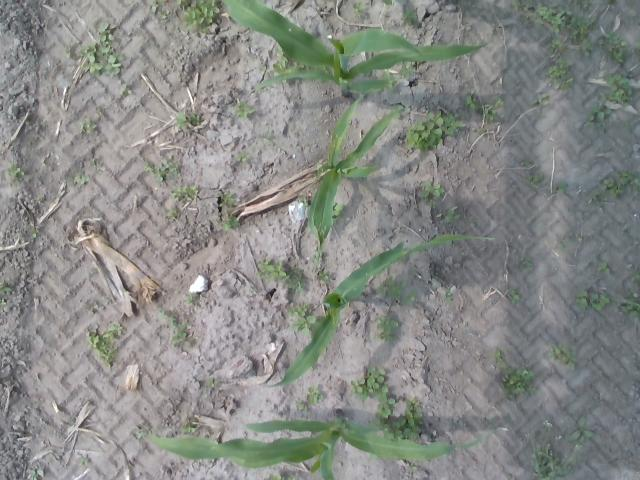Maize: (260, 232, 493, 392), (219, 0, 486, 98), (146, 410, 492, 480), (307, 93, 403, 267)
Weeds: (522, 420, 578, 478), (349, 366, 394, 432), (405, 110, 466, 151), (510, 0, 572, 34), (87, 322, 124, 370), (384, 398, 424, 442), (77, 40, 123, 77), (176, 0, 220, 35), (569, 16, 600, 58), (499, 366, 536, 401), (564, 414, 595, 452), (597, 31, 632, 64), (602, 72, 633, 107), (169, 311, 196, 348), (546, 58, 575, 91), (288, 303, 316, 336), (584, 96, 611, 128), (575, 290, 611, 312), (548, 344, 576, 372), (273, 43, 292, 84), (376, 274, 404, 300), (255, 258, 287, 280), (155, 156, 180, 183), (375, 315, 399, 341), (422, 180, 445, 206), (173, 110, 200, 130), (616, 168, 640, 190), (286, 266, 305, 293), (619, 293, 640, 317), (602, 176, 624, 198), (172, 184, 198, 202), (4, 163, 24, 184), (97, 22, 118, 42), (398, 59, 417, 80), (438, 206, 460, 224), (234, 102, 256, 119), (400, 8, 420, 26), (381, 70, 398, 90), (306, 385, 323, 405), (218, 216, 240, 231), (463, 88, 478, 110), (78, 118, 98, 134), (150, 0, 166, 20), (586, 190, 608, 204), (217, 192, 236, 208), (331, 200, 344, 223), (546, 39, 564, 55), (68, 172, 90, 185), (482, 104, 499, 120), (532, 92, 550, 107), (184, 291, 202, 306), (526, 172, 544, 186), (508, 286, 522, 304), (491, 347, 505, 364), (27, 468, 46, 480), (351, 1, 365, 16), (403, 289, 416, 305), (166, 205, 180, 219), (392, 104, 404, 119), (519, 256, 534, 268), (317, 270, 332, 282), (203, 378, 219, 389), (134, 426, 147, 439), (558, 236, 570, 250), (236, 150, 250, 162), (574, 0, 590, 10), (0, 282, 13, 294), (598, 261, 610, 274), (442, 288, 453, 302), (298, 196, 310, 208), (554, 182, 566, 194), (119, 84, 132, 95), (294, 402, 308, 412), (494, 94, 504, 107), (76, 456, 89, 466), (519, 158, 532, 168), (180, 426, 196, 434), (143, 161, 154, 172), (310, 252, 322, 262), (267, 473, 284, 480), (156, 308, 168, 317), (633, 270, 640, 284), (286, 472, 298, 480), (28, 228, 37, 238), (634, 42, 640, 55), (367, 452, 378, 459), (380, 0, 392, 6), (408, 465, 418, 472), (622, 122, 630, 130), (0, 298, 7, 305), (260, 65, 266, 72), (478, 128, 486, 133)
